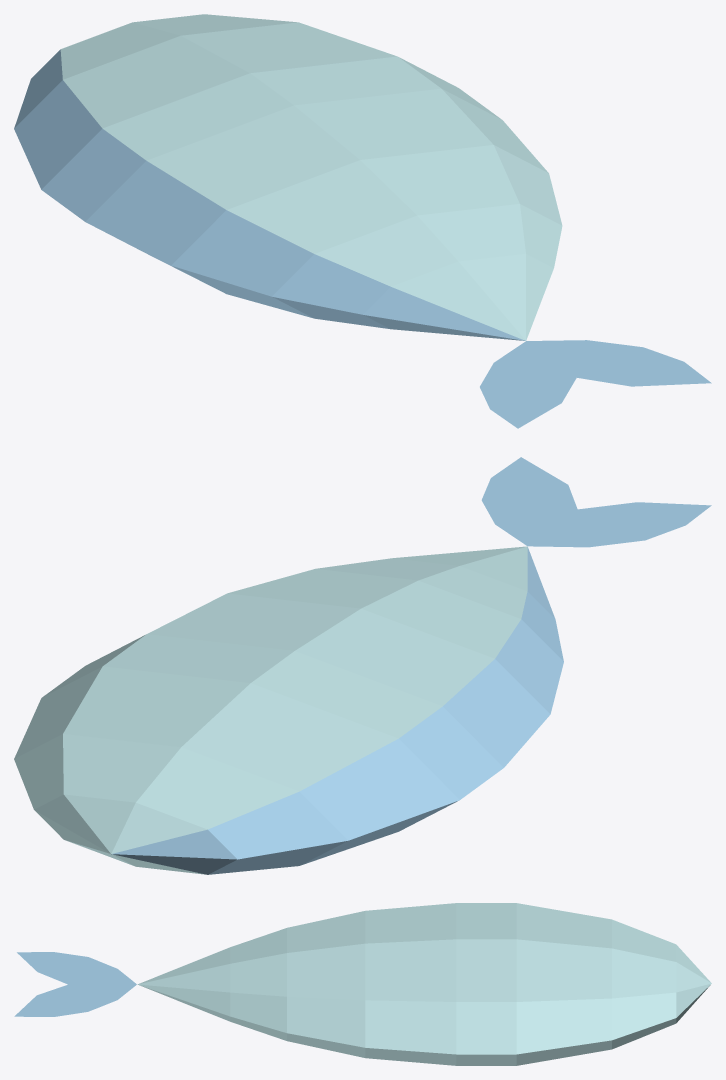
File: fish.fbx
3 renders of one model, top to bottom at view 1: azimuth 30°, elevation 25°; view 2: azimuth 150°, elevation 25°; view 3: azimuth 270°, elevation 25°, orthographic. The views are drawn at different scales.
Parts seen in each view (by area): view 1: Circle.001; view 2: Circle.001; view 3: Circle.001.
Boxes of the visible parts, left/top/right/bottom form: Circle.001: left=14, top=14, right=711, bottom=428; Circle.001: left=14, top=457, right=711, bottom=874; Circle.001: left=14, top=903, right=711, bottom=1065.
Size of the model in its own units: 14.38 by 4.33 by 30.3.
